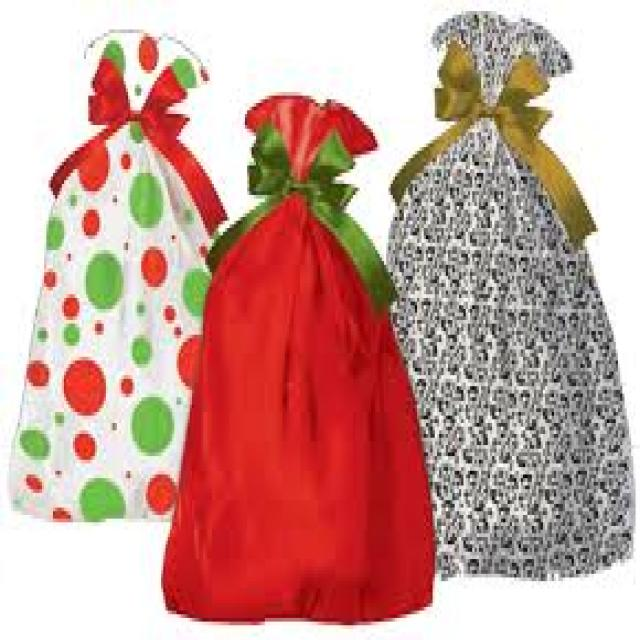plastic: (380, 7, 634, 574), (159, 92, 430, 622), (7, 26, 225, 515)
